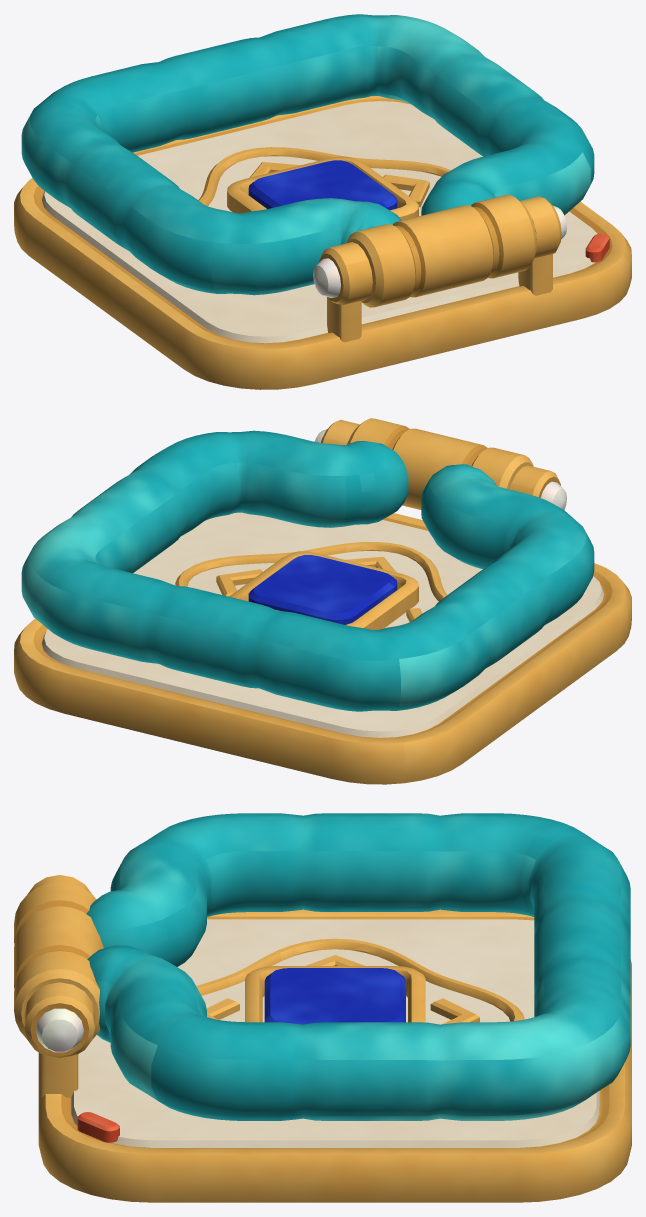
File: SnareTrap_v007.fbx
The picture shows the model from 3 angles, top to bottom: view 1: azimuth 30°, elevation 25°; view 2: azimuth 150°, elevation 25°; view 3: azimuth 270°, elevation 25°; orthographic projection. The views are drawn at different scales.
Visible parts, largest first — view 1: SnareTrap_Loop, SnareTrap_Base, SnareTrap_Trigger; view 2: SnareTrap_Loop, SnareTrap_Base, SnareTrap_Trigger; view 3: SnareTrap_Loop, SnareTrap_Base, SnareTrap_Trigger.
Boxes of the visible parts, x1=… form: SnareTrap_Loop: x1=21, y1=14, x2=594, y2=307; SnareTrap_Base: x1=14, y1=96, x2=631, y2=389; SnareTrap_Trigger: x1=248, y1=160, x2=397, y2=210; SnareTrap_Loop: x1=21, y1=418, x2=594, y2=711; SnareTrap_Base: x1=14, y1=419, x2=631, y2=784; SnareTrap_Trigger: x1=248, y1=555, x2=397, y2=624; SnareTrap_Loop: x1=14, y1=813, x2=630, y2=1120; SnareTrap_Base: x1=24, y1=875, x2=631, y2=1202; SnareTrap_Trigger: x1=264, y1=968, x2=405, y2=1024.
Bounding box in the file's own units: 0.84 × 0.272 × 0.875.
Materials: 1 (1 with a texture image).
